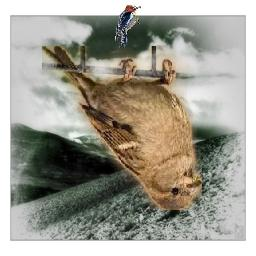Sparrow: (42, 46, 202, 210)
Woodpecker: (115, 6, 141, 49)
